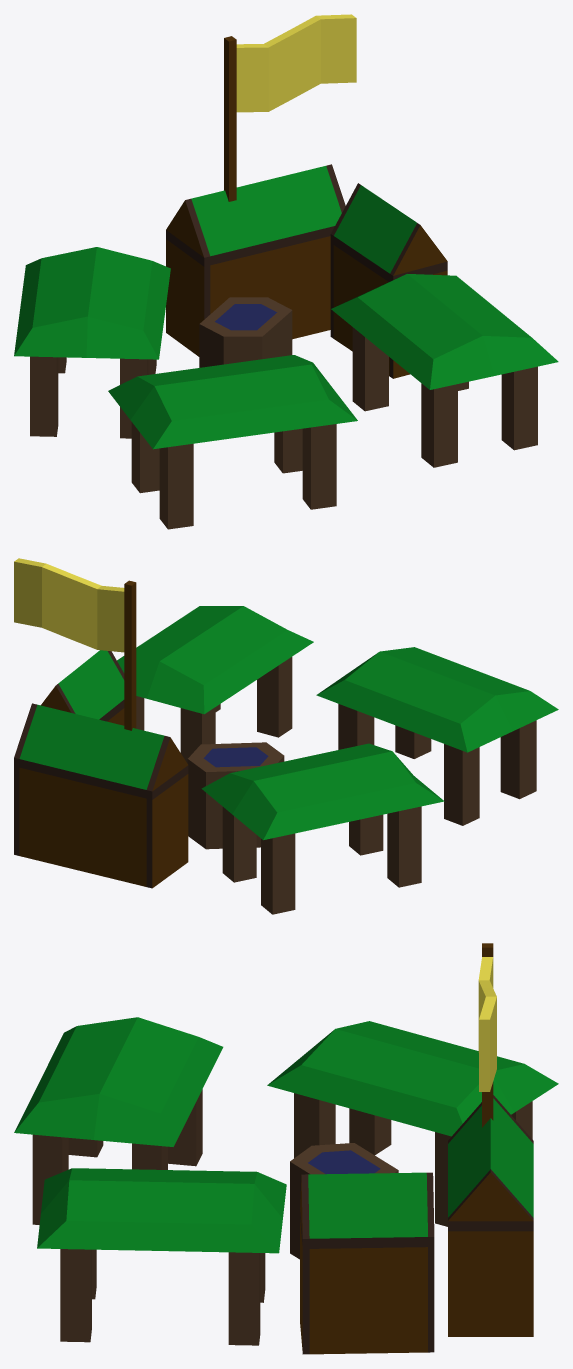
Rendered from SM_TileMarket.fbx.
3 views of the same model, one above another, from view 1: azimuth 30°, elevation 25°; view 2: azimuth 150°, elevation 25°; view 3: azimuth 270°, elevation 25° (orthographic). The views are drawn at different scales.
Visible parts, largest first — view 1: TileMarket, TileMarketFlag; view 2: TileMarket, TileMarketFlag; view 3: TileMarket, TileMarketFlag.
Part boxes in pixels (x1,y1,x2,y2): TileMarket: (14,164,558,529); TileMarketFlag: (224,14,356,201); TileMarket: (14,606,558,914); TileMarketFlag: (14,558,136,730); TileMarket: (14,1017,558,1354); TileMarketFlag: (478,943,496,1127).
Bounding box in the file's own units: 405 × 284 × 414.
